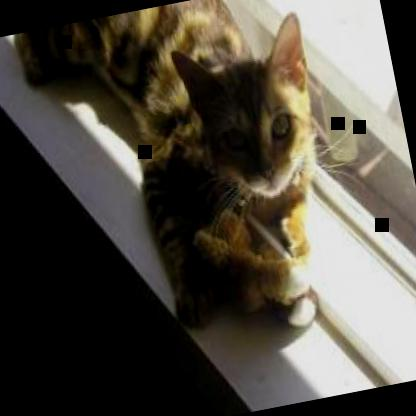cat: (11, 0, 357, 368)
